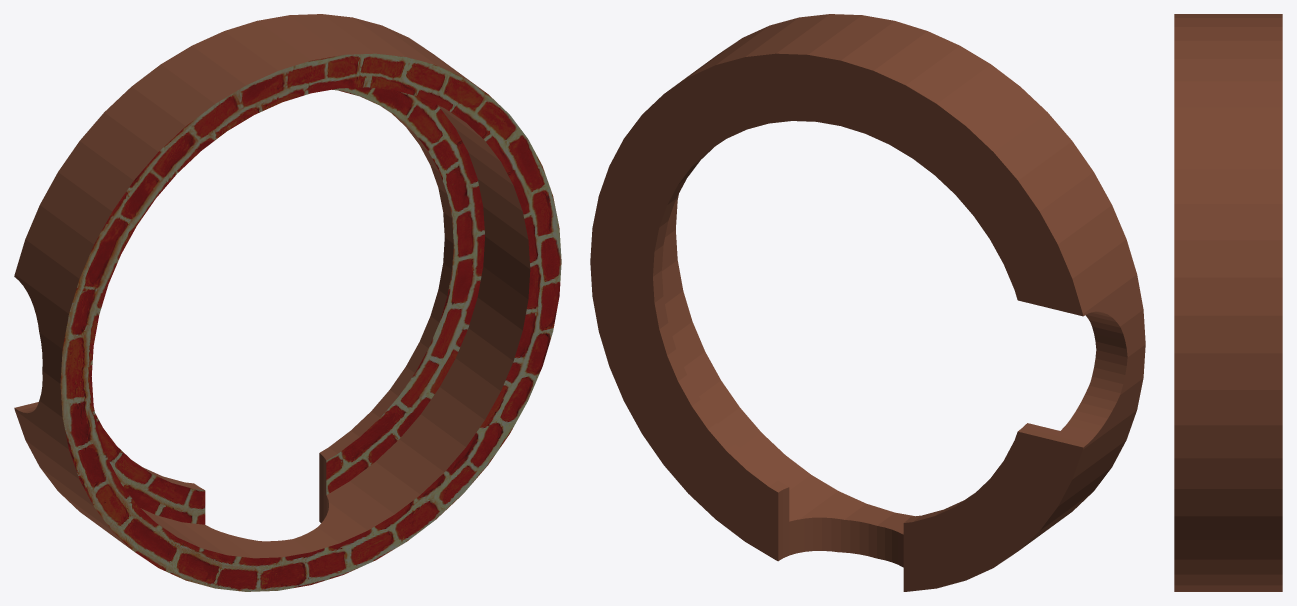
File: pool_046.obj
3 renders of one model, left to right at view 1: azimuth 30°, elevation 25°; view 2: azimuth 150°, elevation 25°; view 3: azimuth 270°, elevation 25°, orthographic.
Size of the model in its own units: 16 by 16 by 3.
Materials: 1 (1 with a texture image).
